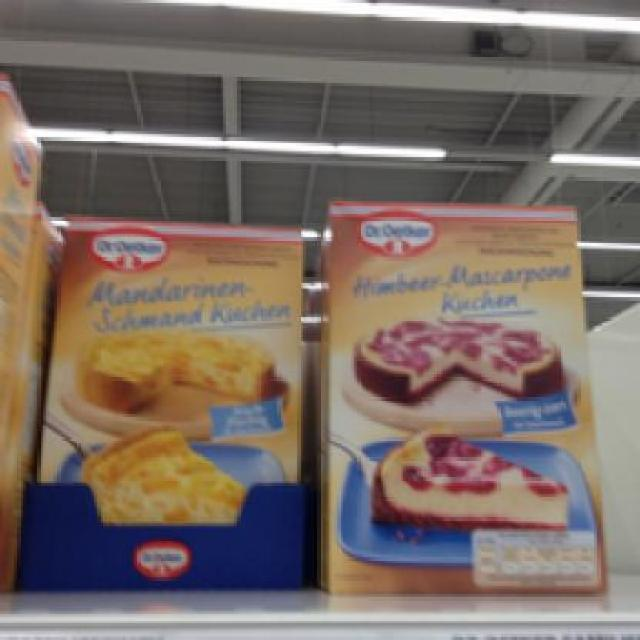Cake: (314, 193, 606, 610), (28, 206, 306, 580)
